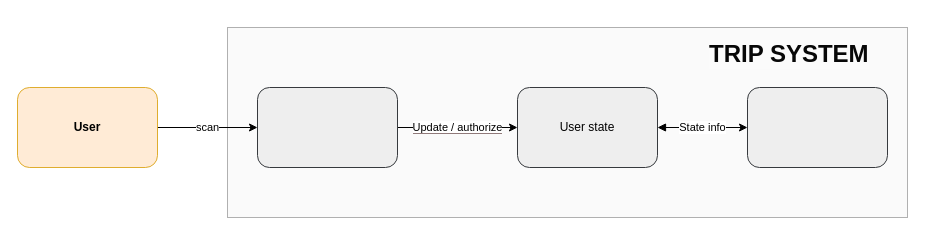
This 925x235 diagram has some shape labels left out. Here are the shapes that lost their labels. From the top down, the box of each, then its label:
(256, 86, 398, 168): turnstile
(746, 86, 888, 168): User state DB
